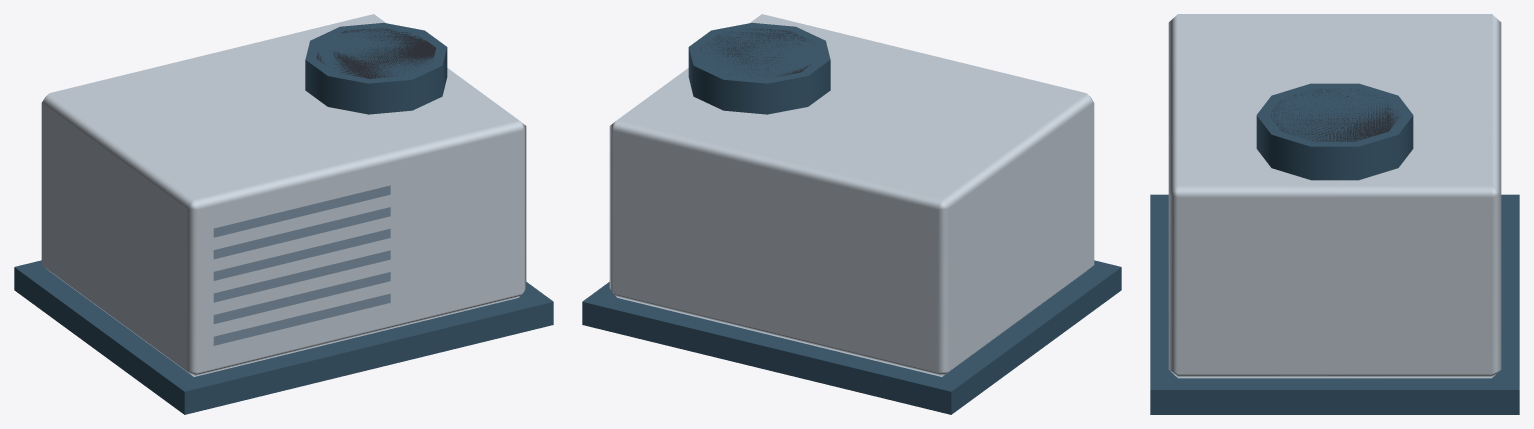
Rendered from CM_Shell_RoofAC.fbx.
3 renders of one model, left to right at view 1: azimuth 30°, elevation 25°; view 2: azimuth 150°, elevation 25°; view 3: azimuth 270°, elevation 25°, orthographic. The views are drawn at different scales.
Visible parts, largest first — view 1: Body, Fan; view 2: Body, Fan; view 3: Body, Fan.
Boxes of the visible parts, box(x1,y1,x2,y2) form: Body: box(14, 14, 553, 414); Fan: box(316, 27, 436, 78); Body: box(582, 14, 1121, 414); Fan: box(700, 28, 812, 77); Body: box(1150, 14, 1519, 414); Fan: box(1269, 88, 1400, 141).
Size of the model in its own units: 5 by 4 by 3.
1 material, 1 textured.
